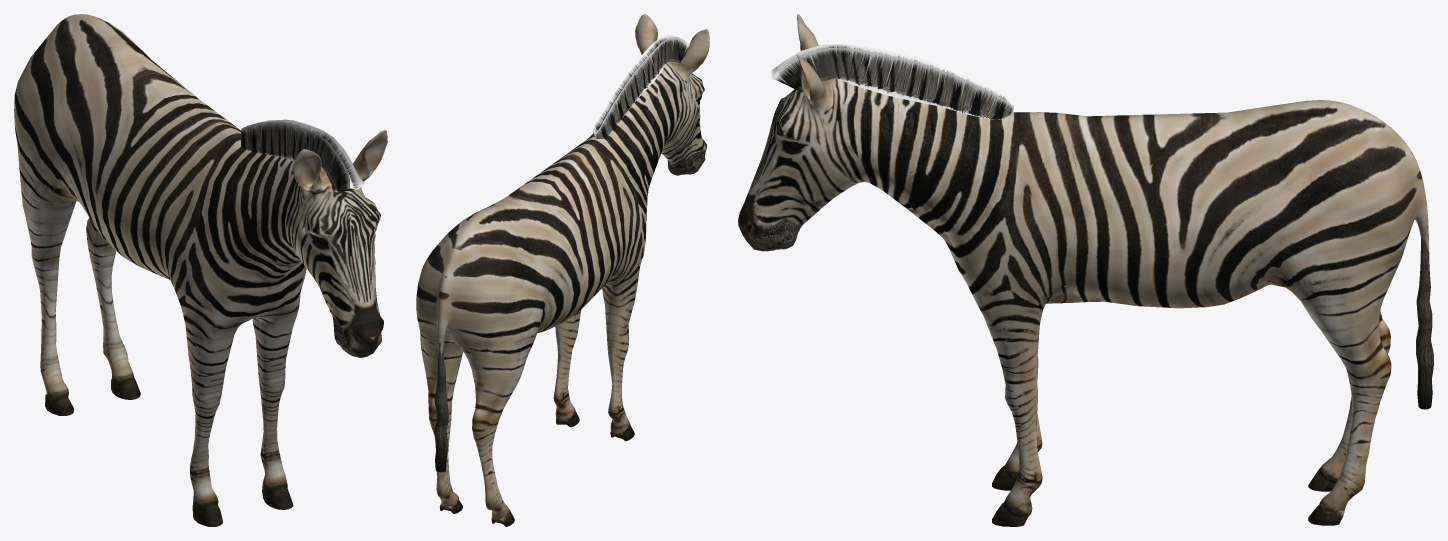
Rendered from zebra.dae.
3 renders of one model, left to right at view 1: azimuth 30°, elevation 25°; view 2: azimuth 150°, elevation 25°; view 3: azimuth 270°, elevation 25°, orthographic. The views are drawn at different scales.
Parts seen in each view (by area): view 1: _3DGeom_4_Defintion (×4), _3DGeom_10_Defintion, _3DGeom_5_Defintion (×2), _3DGeom_11_Defintion; view 2: _3DGeom_4_Defintion (×2), _3DGeom_10_Defintion, _3DGeom_12_Defintion, _3DGeom_11_Defintion; view 3: _3DGeom_4_Defintion (×2), _3DGeom_10_Defintion, _3DGeom_12_Defintion, _3DGeom_11_Defintion.
Part boxes in pixels (x1=…): _3DGeom_4_Defintion (×4): x1=14, y1=14, x2=387, y2=510; _3DGeom_10_Defintion: x1=240, y1=121, x2=356, y2=190; _3DGeom_5_Defintion (×2): x1=192, y1=486, x2=293, y2=526; _3DGeom_11_Defintion: x1=260, y1=119, x2=364, y2=189; _3DGeom_4_Defintion (×2): x1=416, y1=14, x2=709, y2=521; _3DGeom_10_Defintion: x1=593, y1=36, x2=686, y2=139; _3DGeom_12_Defintion: x1=434, y1=343, x2=448, y2=472; _3DGeom_11_Defintion: x1=594, y1=35, x2=674, y2=133; _3DGeom_4_Defintion (×2): x1=738, y1=14, x2=1428, y2=517; _3DGeom_10_Defintion: x1=772, y1=48, x2=1014, y2=119; _3DGeom_12_Defintion: x1=1416, y1=235, x2=1433, y2=409; _3DGeom_11_Defintion: x1=777, y1=43, x2=1013, y2=105.
Size of the model in its own units: 27.89 by 118 by 87.81.
Materials: 5 (5 with a texture image).
